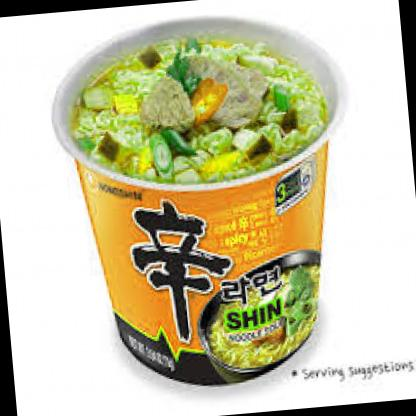Ramen: (48, 5, 358, 397)
